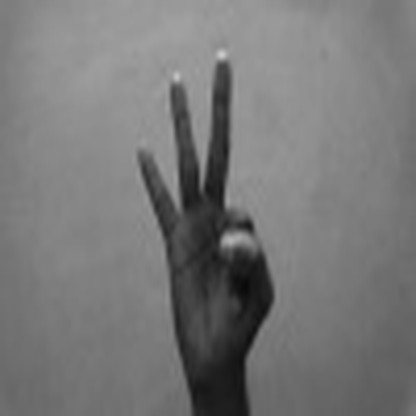f: (118, 40, 283, 382)
